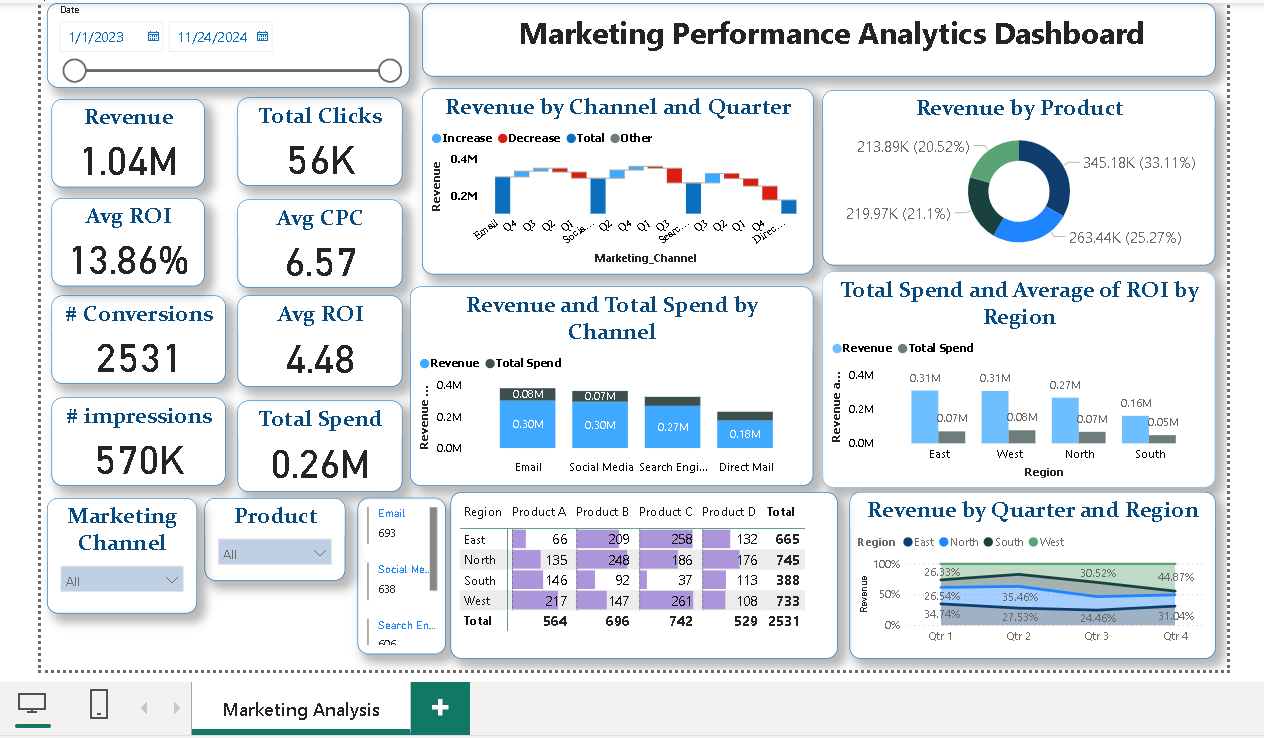

Layout of this report page (visuals, bound fields, positions):
{"tool":"powerbi","page":{"name":"Page 1","canvas":[1280,720],"ordinal":0},"visuals":[{"type":"card","title":"Total Clicks","fields":{"Values":["Sum(Sheet1.Clicks)"]},"box":[6.3,481.8,156.4,92.3],"z":0},{"type":"card","title":"Avg CPC","fields":{"Values":["Avg(Sheet1.CPC)"]},"box":[194,359.8,140.8,98.5],"z":1000},{"type":"card","title":"# Conversions","fields":{"Values":["Sum(Sheet1.Conversions)"]},"box":[0,236.2,187.7,90.7],"z":2000},{"type":"card","title":"# impressions","fields":{"Values":["Sum(Sheet1.Impressions)"]},"box":[0,111.7,187.8,97.2],"z":3000},{"type":"card","title":"Revenue","fields":{"Values":["Sum(Sheet1.Revenue)"]},"box":[199.2,111.7,136,92.3],"z":4000},{"type":"card","title":"Total Spend","fields":{"Values":["Sum(Sheet1.Spend)"]},"box":[0,359.8,186.1,98.5],"z":5000},{"type":"card","title":"Avg ROI","fields":{"Values":["Avg(Sheet1.ROI)"]},"box":[194,236.2,140.8,97],"z":6000},{"type":"card","title":"Avg ROI","fields":{"Values":["Avg(Sheet1.CTR)"]},"box":[170.5,481.8,164.2,92.3],"z":7000},{"type":"textbox","box":[411.3,0,856.6,79.3],"z":8000},{"type":"waterfallChart","title":" Revenue by Channel and Quarter","fields":{"Category":["Sheet1.Marketing_Channel"],"Breakdown":["Sheet1.Quarter"],"Y":["Sum(Sheet1.Revenue)"]},"box":[347.2,92.3,419.2,189.3],"z":9000},{"type":"slicer","fields":{"Values":["Sheet1.Date"]},"box":[5.8,0,391.4,91.5],"z":10000},{"type":"donutChart","title":"Revenue by Product","fields":{"Y":["Sum(Sheet1.Revenue)"],"Category":["Sheet1.Product"]},"box":[777.4,92.3,395.7,189.3],"z":11000},{"type":"columnChart","fields":{"Category":["Sheet1.Marketing_Channel"],"Y":["Sum(Sheet1.Revenue)","Sum(Sheet1.Spend)"]},"box":[347.2,292.5,419.2,270.6],"z":12000},{"type":"clusteredColumnChart","title":" Total Spend and Average of ROI by Region","fields":{"Category":["Sheet1.Region"],"Y":["Sum(Sheet1.Revenue)","Sum(Sheet1.Spend)"]},"box":[777.4,292.5,395.7,233.1],"z":13000},{"type":"hundredPercentStackedAreaChart","fields":{"Category":["Sheet1.Date.Variation.Date Hierarchy.Quarter"],"Y":["Sum(Sheet1.Revenue)"],"Series":["Sheet1.Region"]},"box":[347,570,419,150],"z":13001},{"type":"multiRowCard","fields":{"Values":["Sum(Sheet1.Conversions)","Sheet1.Marketing_Channel"]},"box":[1183.7,92.3,95.5,234.8],"z":13002},{"type":"pivotTable","fields":{"Rows":["Sheet1.Region"],"Columns":["Sheet1.Product"],"Values":["Sum(Sheet1.Conversions)"]},"box":[777.2,540.8,417.8,179.7],"z":13003},{"type":"slicer","title":"Product","fields":{"Values":["Sheet1.Product"]},"box":[0,579.7,152.2,103.6],"z":13004},{"type":"slicer","title":"Marketing Channel","fields":{"Values":["Sheet1.Marketing_Channel"]},"box":[170,574.8,152.2,121.4],"z":13005}]}

Visuals, with their boxes on the page's 1280x720 design canvas (x1, y1, x2, y2). These are canvas units, not pixel positions in the 1264x738 screenshot, which may show the page scaled, cropped or inside an application window:
"Total Clicks" card: x1=6, y1=482, x2=163, y2=574
"Avg CPC" card: x1=194, y1=360, x2=335, y2=458
"# Conversions" card: x1=0, y1=236, x2=188, y2=327
"# impressions" card: x1=0, y1=112, x2=188, y2=209
"Revenue" card: x1=199, y1=112, x2=335, y2=204
"Total Spend" card: x1=0, y1=360, x2=186, y2=458
"Avg ROI" card: x1=194, y1=236, x2=335, y2=333
"Avg ROI" card: x1=170, y1=482, x2=335, y2=574
textbox: x1=411, y1=0, x2=1268, y2=79
" Revenue by Channel and Quarter" waterfallChart: x1=347, y1=92, x2=766, y2=282
slicer - Sheet1.Date: x1=6, y1=0, x2=397, y2=92
"Revenue by Product" donutChart: x1=777, y1=92, x2=1173, y2=282
columnChart - Sheet1.Marketing_Channel x Sum(Sheet1.Revenue): x1=347, y1=292, x2=766, y2=563
" Total Spend and Average of ROI by Region" clusteredColumnChart: x1=777, y1=292, x2=1173, y2=526
hundredPercentStackedAreaChart - Sheet1.Date.Variation.Date Hierarchy.Quarter x Sum(Sheet1.Revenue): x1=347, y1=570, x2=766, y2=720
multiRowCard - Sum(Sheet1.Conversions) x Sheet1.Marketing_Channel: x1=1184, y1=92, x2=1279, y2=327
pivotTable - Sheet1.Region x Sheet1.Product: x1=777, y1=541, x2=1195, y2=720
"Product" slicer: x1=0, y1=580, x2=152, y2=683
"Marketing Channel" slicer: x1=170, y1=575, x2=322, y2=696
